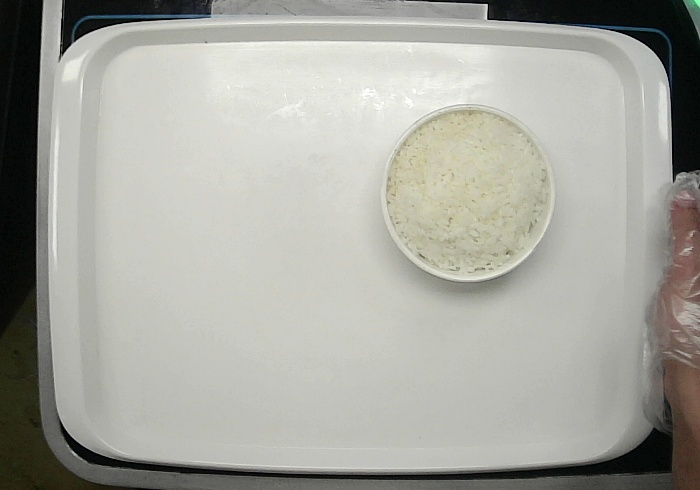HZYJPL-Fan_Wan: (379, 100, 558, 283)
